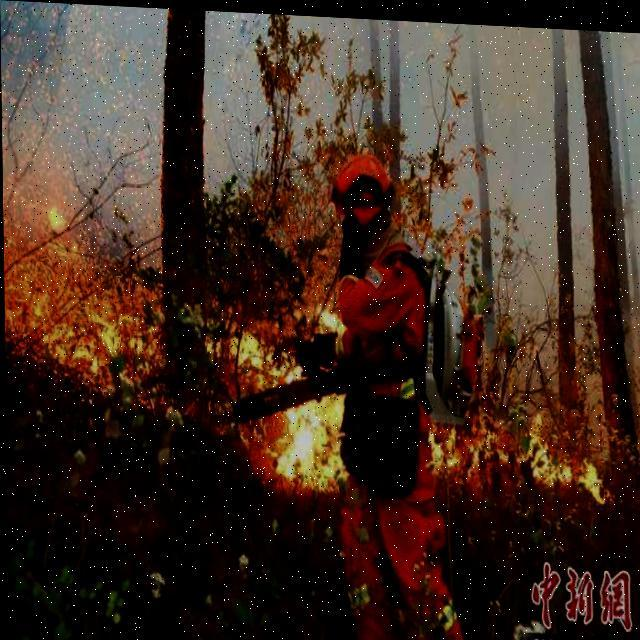Fire: (11, 190, 348, 497), (427, 373, 611, 505)
